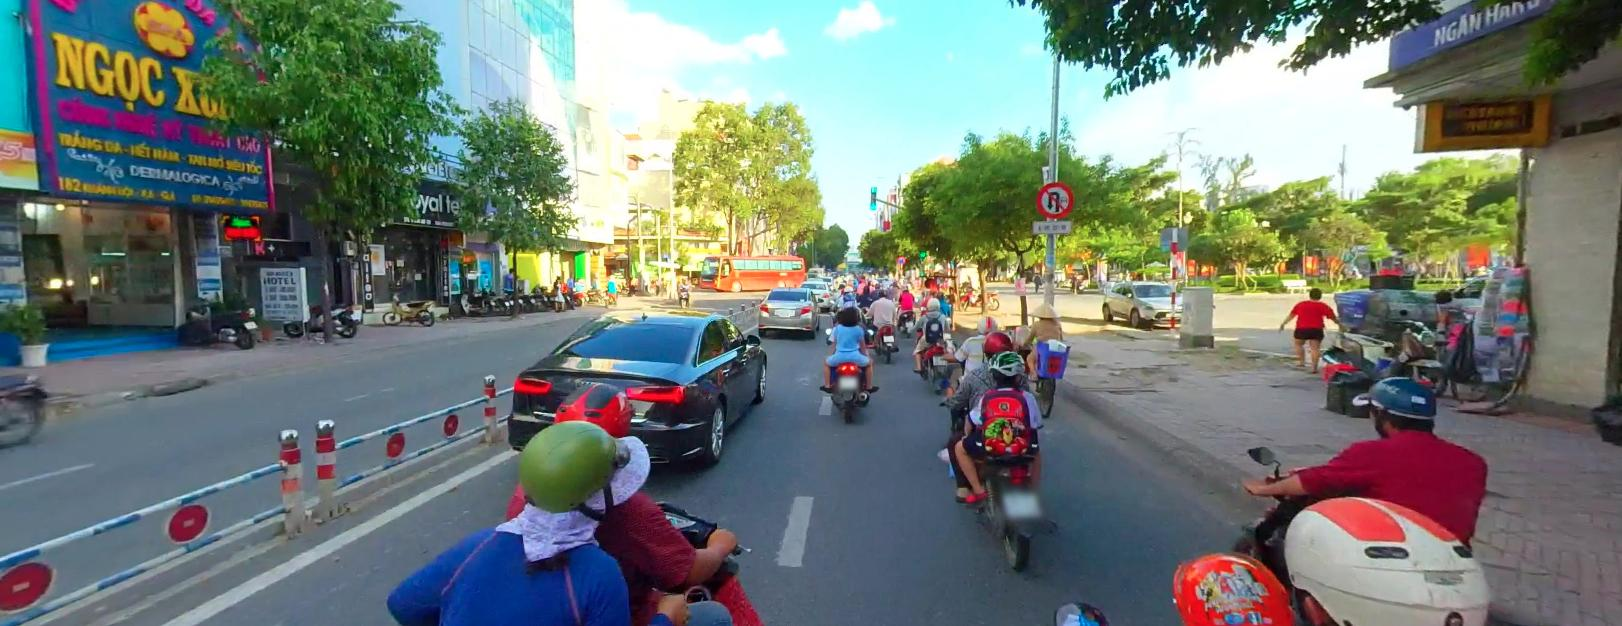Cam dung va do: (897, 254, 904, 261)
Cam re: (1037, 180, 1072, 215)
